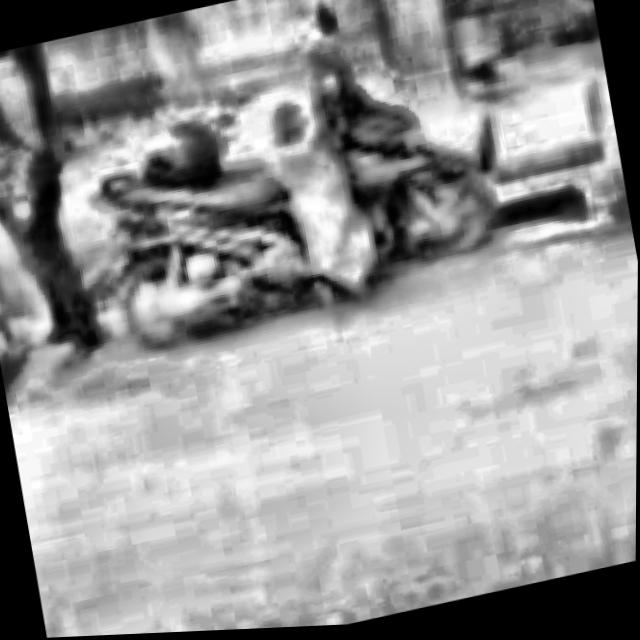motorcycle: (44, 0, 552, 387)
